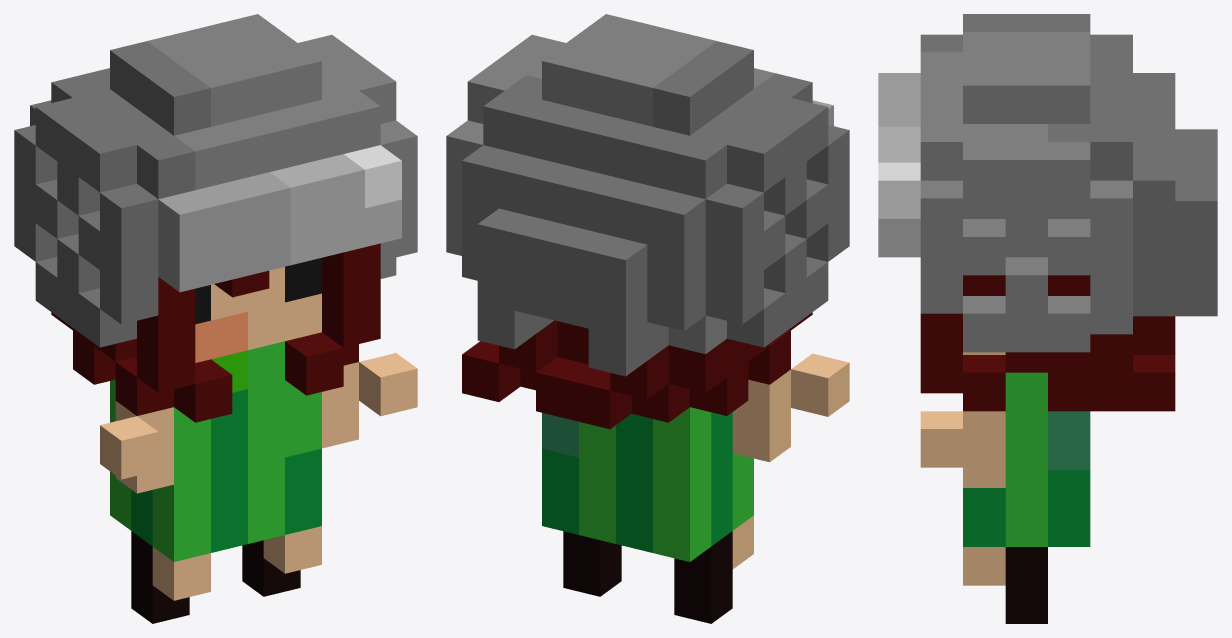
Rendered from SM_Voxel_Character_Jump.glb.
The picture shows the model from 3 angles, left to right: view 1: azimuth 30°, elevation 25°; view 2: azimuth 150°, elevation 25°; view 3: azimuth 270°, elevation 25°; orthographic projection.
Parts seen in each view (by area): view 1: SM_Voxel_Character_Jump; view 2: SM_Voxel_Character_Jump; view 3: SM_Voxel_Character_Jump.
Part boxes in pixels (x1=…): SM_Voxel_Character_Jump: x1=14, y1=14, x2=417, y2=623; SM_Voxel_Character_Jump: x1=446, y1=14, x2=849, y2=623; SM_Voxel_Character_Jump: x1=878, y1=14, x2=1217, y2=623.
Bounding box in the file's own units: 0.8 × 1.4 × 0.8.
Materials: 1 (1 with a texture image).
